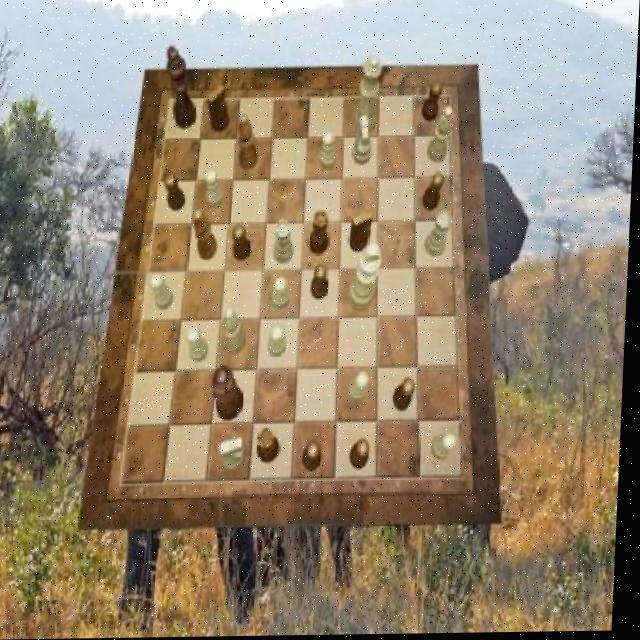bishop: (196, 210, 222, 262), (238, 114, 261, 172)
black-bishop: (166, 45, 202, 130)
black-king: (208, 85, 232, 135), (351, 212, 375, 254)
black-knight: (165, 175, 189, 213), (396, 379, 420, 414), (422, 82, 442, 123), (425, 173, 446, 211), (234, 226, 254, 261), (354, 440, 375, 471), (314, 265, 332, 300), (306, 441, 326, 472)
black-pawn: (215, 366, 250, 423)
black-queen: (311, 211, 332, 257), (261, 429, 285, 464)
black-rook: (430, 107, 455, 163), (224, 308, 250, 355)
white-bishop: (350, 245, 385, 313)
white-king: (354, 117, 376, 166), (223, 438, 251, 473)
white-knight: (152, 273, 177, 310), (190, 328, 214, 363), (207, 171, 228, 210), (435, 435, 462, 463), (270, 326, 291, 358), (352, 373, 373, 404), (322, 133, 339, 171), (274, 278, 292, 312)
white-pawn: (354, 55, 384, 134)
white-queen: (428, 211, 455, 257), (275, 221, 298, 265)
